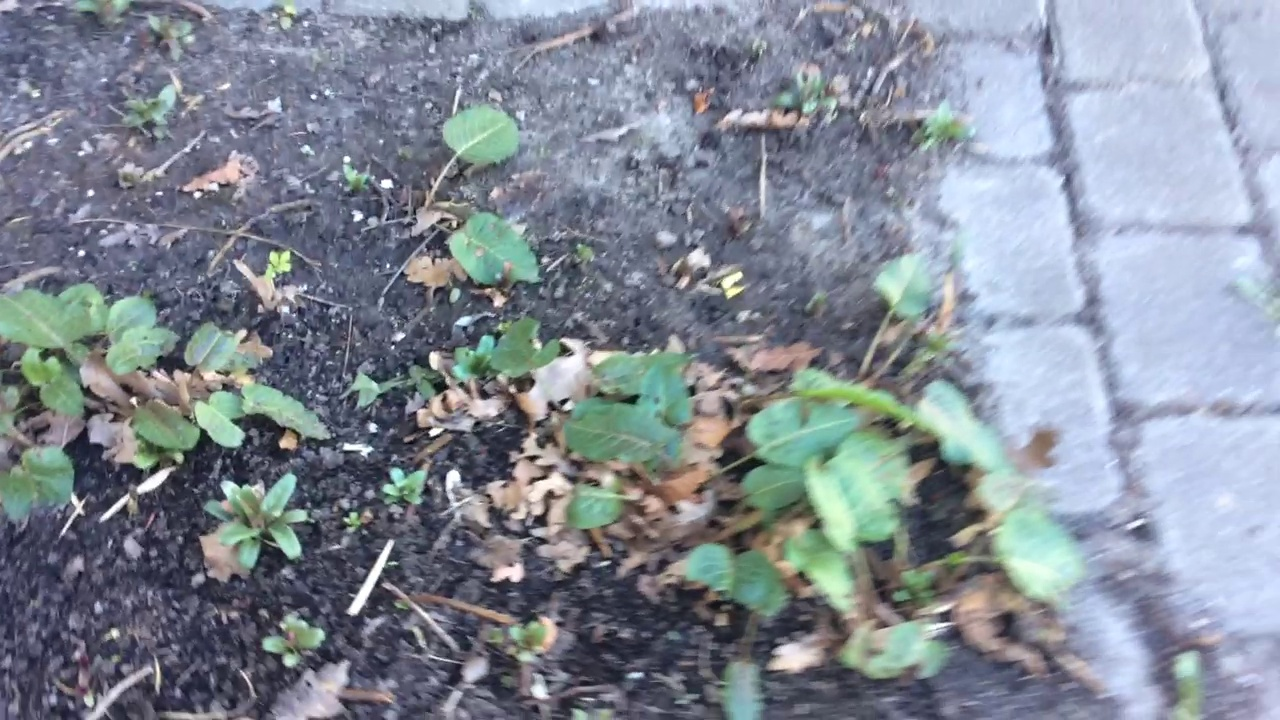rumex: (541, 276, 1082, 675), (1, 278, 318, 526), (398, 95, 553, 304)
